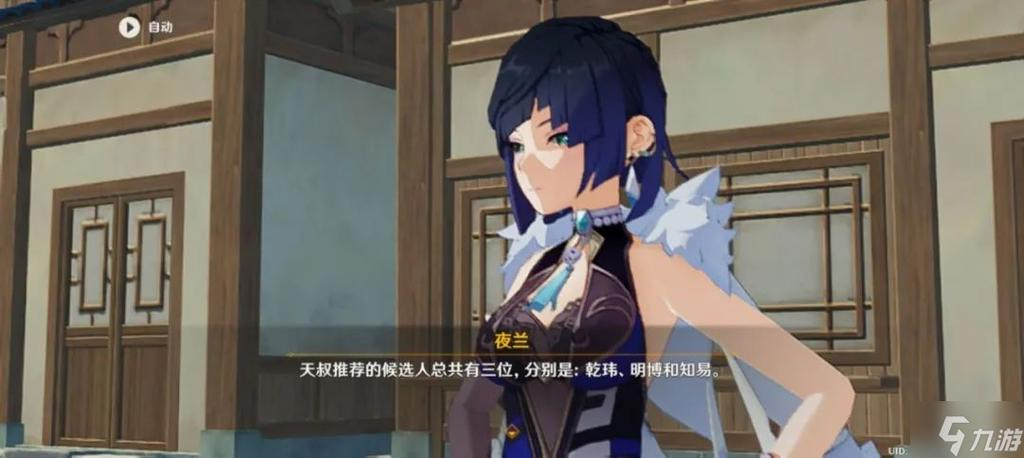夜兰: (434, 15, 861, 458)
